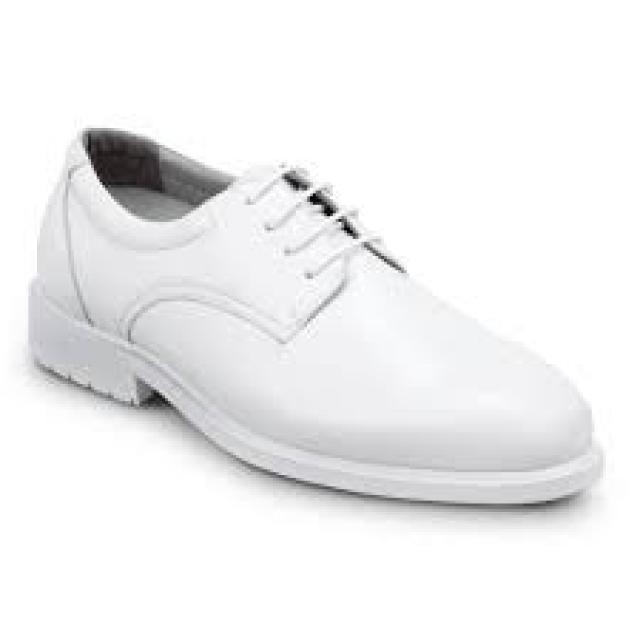shoe: (27, 122, 607, 514)
